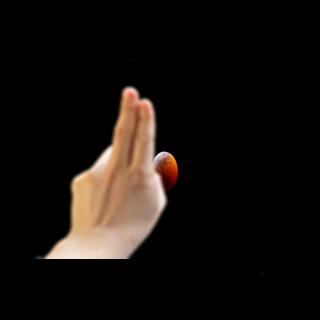DHAVE: (64, 80, 169, 243)
